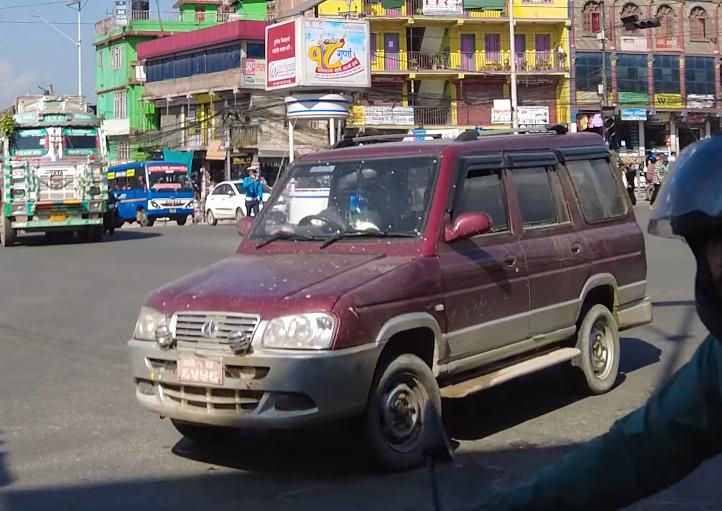SUV: (118, 115, 663, 461)
bus: (108, 156, 194, 224)
car: (203, 177, 273, 225)
truck: (0, 93, 110, 246)
